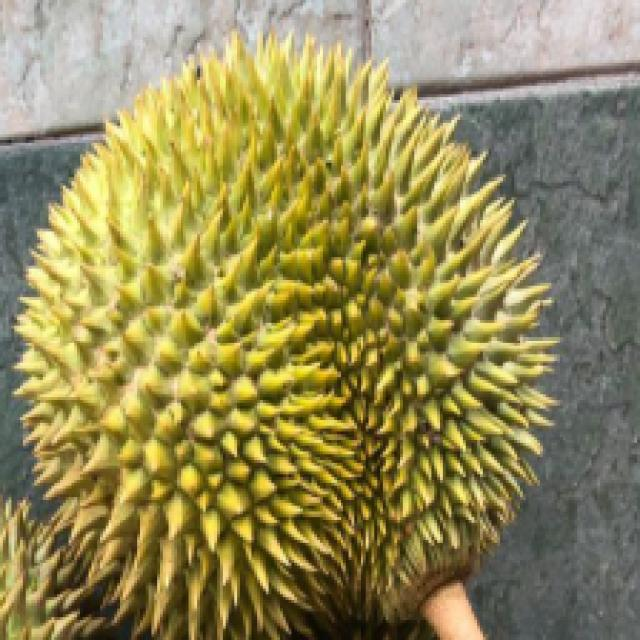d24: (30, 69, 515, 626)
